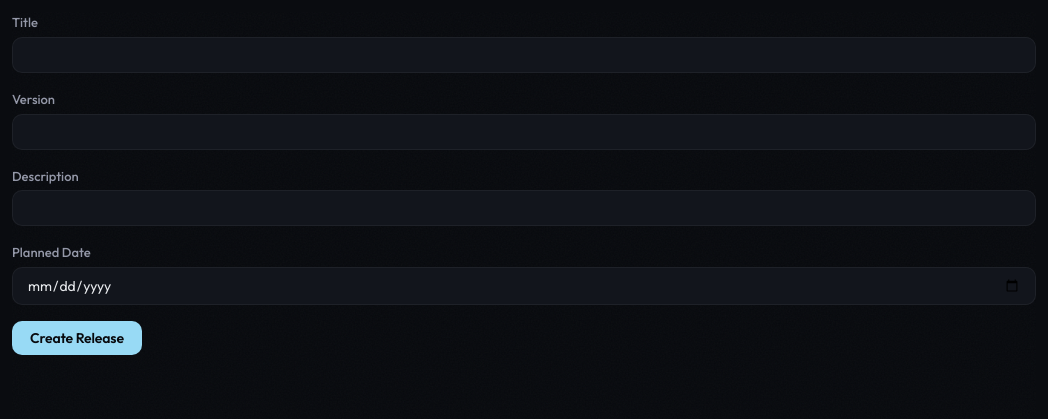
CreateReleaseForm › validates required fields
Click the button "Create Release": (77,338) [12, 321, 142, 355]
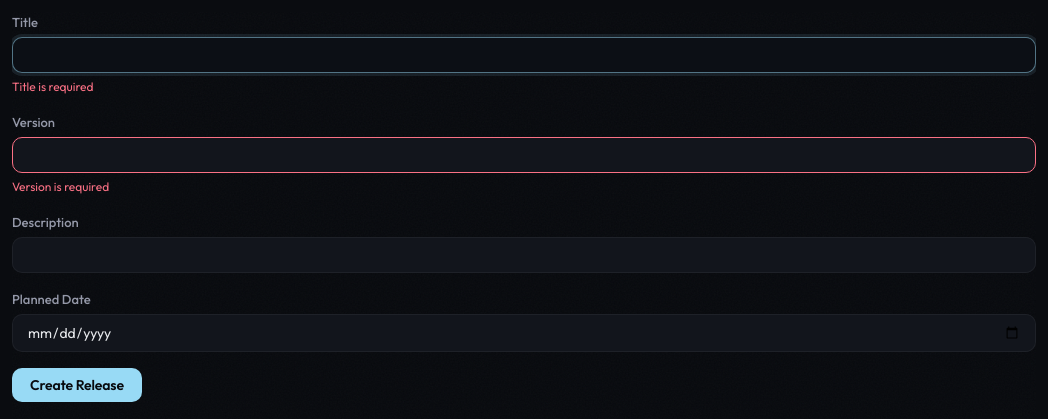
Expected: the text "Title is required" is shown, [12, 79, 94, 94]
Expected: the text "Version is required" is shown, [12, 179, 109, 194]
